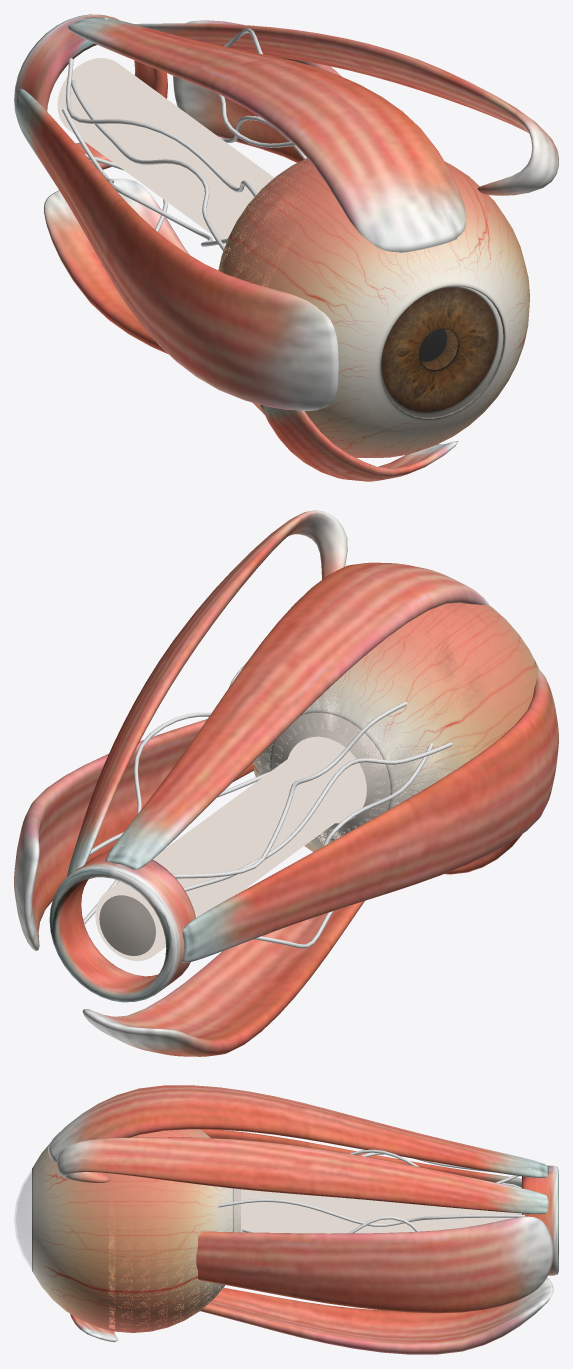
Rendered from eye_c_all.FBX.
3 renders of one model, top to bottom at view 1: azimuth 30°, elevation 25°; view 2: azimuth 150°, elevation 25°; view 3: azimuth 270°, elevation 25°, orthographic. The views are drawn at different scales.
Visible parts, largest first — view 1: 鞏膜001, Box004, Box001, 角膜, 上斜肌, 鞏膜003, 鞏膜002, Box002, 下斜肌, Tube001, Box003, Line003 (+3 smaller); view 2: Box004, Box001, 鞏膜001, 鞏膜002, Box002, Box003, 上斜肌, Tube001, 鞏膜, Line003, Line002, Line004 (+1 smaller); view 3: Box003, 鞏膜001, 上斜肌, Box001, 鞏膜002, Box002, Box004, Tube001, 角膜, Line006, 下斜肌.
Part boxes in pixels (box(x1,y1,x2,y2)): 鞏膜001: box(57, 58, 529, 457); Box004: box(16, 88, 338, 410); Box001: box(67, 17, 466, 252); 角膜: box(381, 286, 502, 417); 上斜肌: box(134, 23, 558, 195); 鞏膜003: box(381, 286, 503, 417); 鞏膜002: box(218, 158, 496, 414); Box002: box(44, 178, 189, 354); 下斜肌: box(260, 405, 458, 481); Tube001: box(14, 14, 167, 169); Box003: box(173, 20, 341, 162); Line003: box(66, 58, 256, 196); Box004: box(182, 670, 558, 962); Box001: box(105, 562, 489, 869); 鞏膜001: box(95, 602, 538, 960); 鞏膜002: box(253, 603, 533, 851); Box002: box(82, 901, 364, 1056); Box003: box(14, 719, 254, 950); 上斜肌: box(66, 510, 347, 876); Tube001: box(49, 852, 195, 1002); 鞏膜: box(99, 728, 375, 955); Line003: box(173, 702, 407, 878); Line002: box(183, 743, 452, 891); Line004: box(120, 664, 245, 846); Box003: box(196, 1216, 553, 1313); 鞏膜001: box(32, 1129, 521, 1332); 上斜肌: box(56, 1137, 548, 1214); Box001: box(48, 1085, 548, 1177); 鞏膜002: box(108, 1129, 238, 1332); Box002: box(200, 1278, 553, 1354); Box004: box(201, 1129, 521, 1187); Tube001: box(522, 1165, 558, 1275); 角膜: box(14, 1170, 31, 1268); Line006: box(218, 1199, 524, 1226); 下斜肌: box(70, 1314, 117, 1342).
Bounding box in the file's own units: 87.3 × 87.3 × 172.
